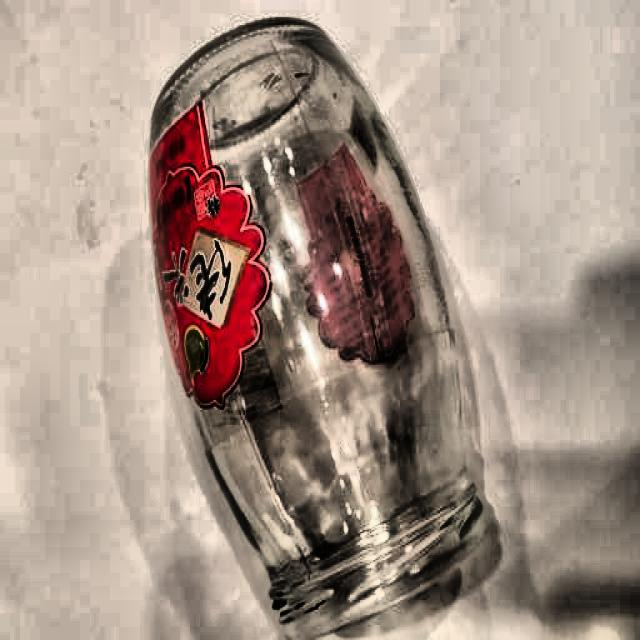glass: (143, 13, 487, 630)
